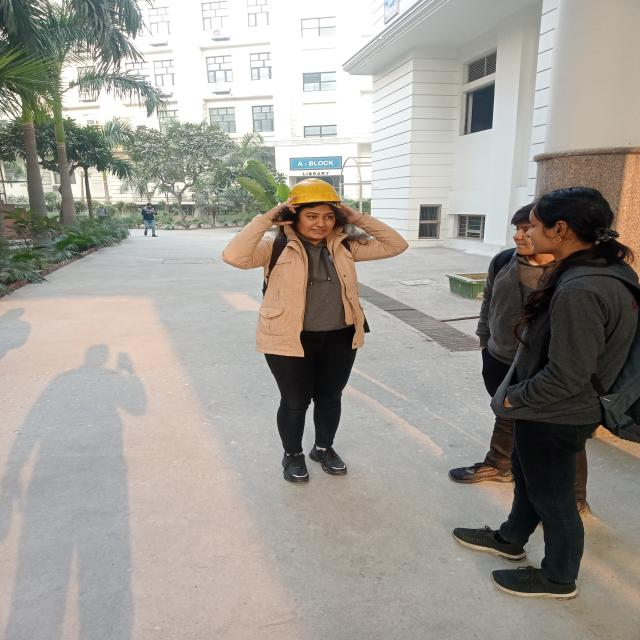no jacket: (224, 174, 398, 485)
unsafe: (449, 181, 640, 598), (140, 202, 162, 238)
